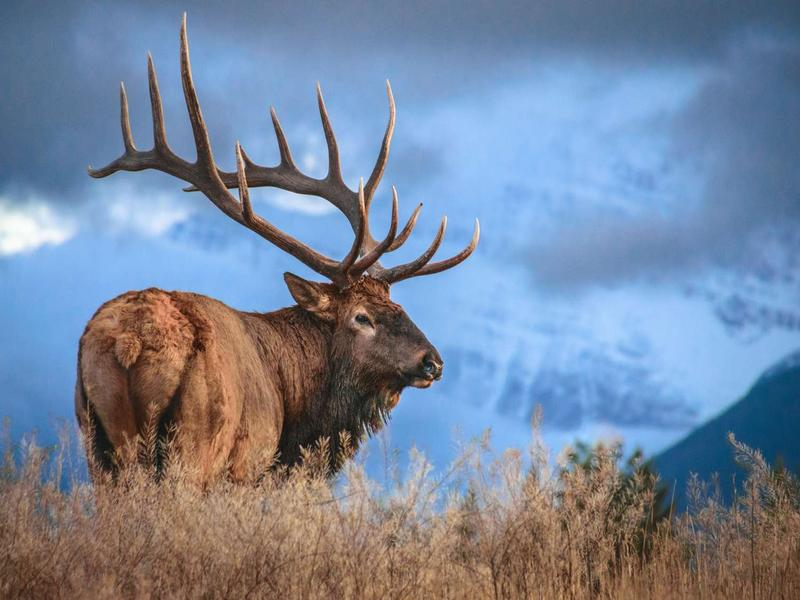elk: (76, 83, 456, 513)
